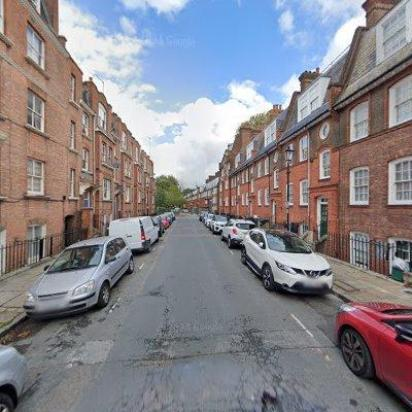stationary-car-onstreet: (24, 234, 136, 320), (334, 299, 410, 411), (240, 227, 334, 297), (0, 342, 31, 410), (220, 218, 256, 250), (207, 213, 230, 232), (152, 214, 164, 234), (159, 213, 171, 228), (204, 213, 216, 227), (162, 211, 174, 223), (198, 211, 206, 221)
stationary-light-truck-onstreet: (107, 215, 159, 253)
